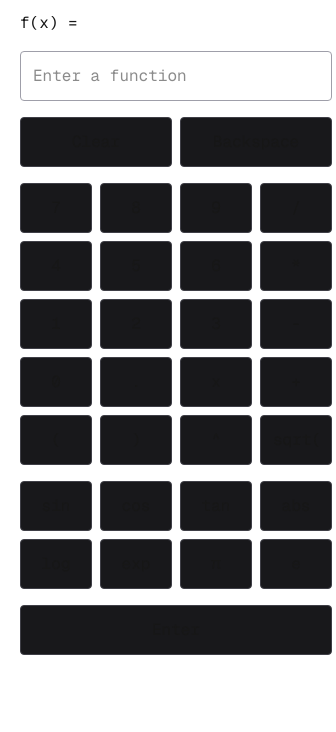
Game Integration Tests › an empty expression displays an error
Click the button "Enter": [176, 630] box [20,605,332,655]
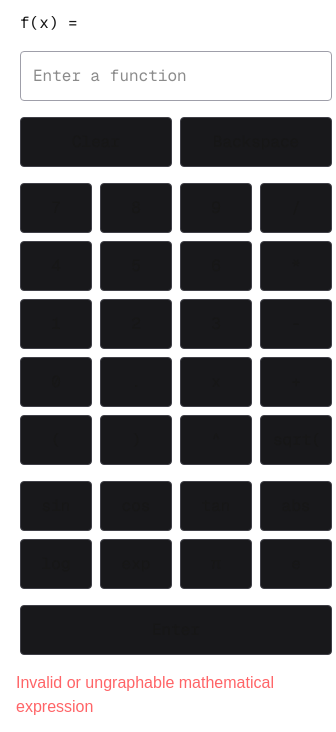
Now the message "Invalid or ungraphable mathematical expression" is shown, box [16,674,274,715]
